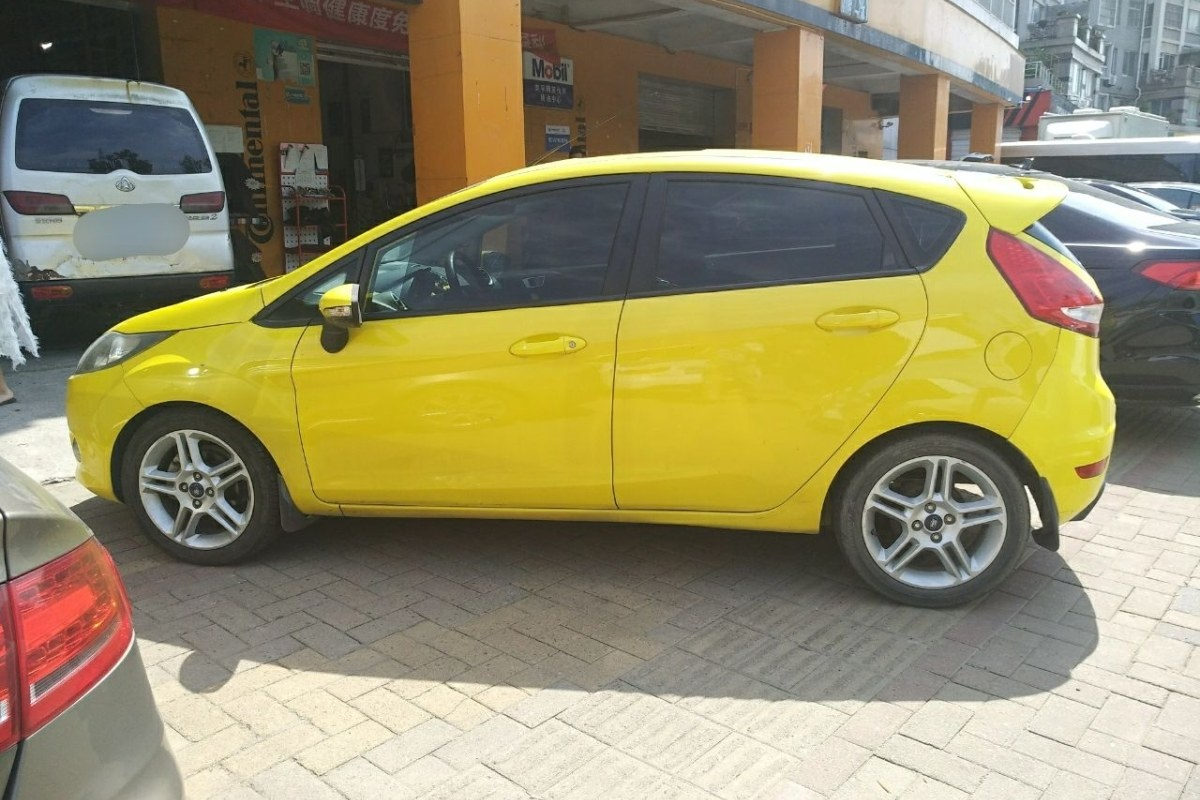family sedan: (79, 146, 1109, 601)
